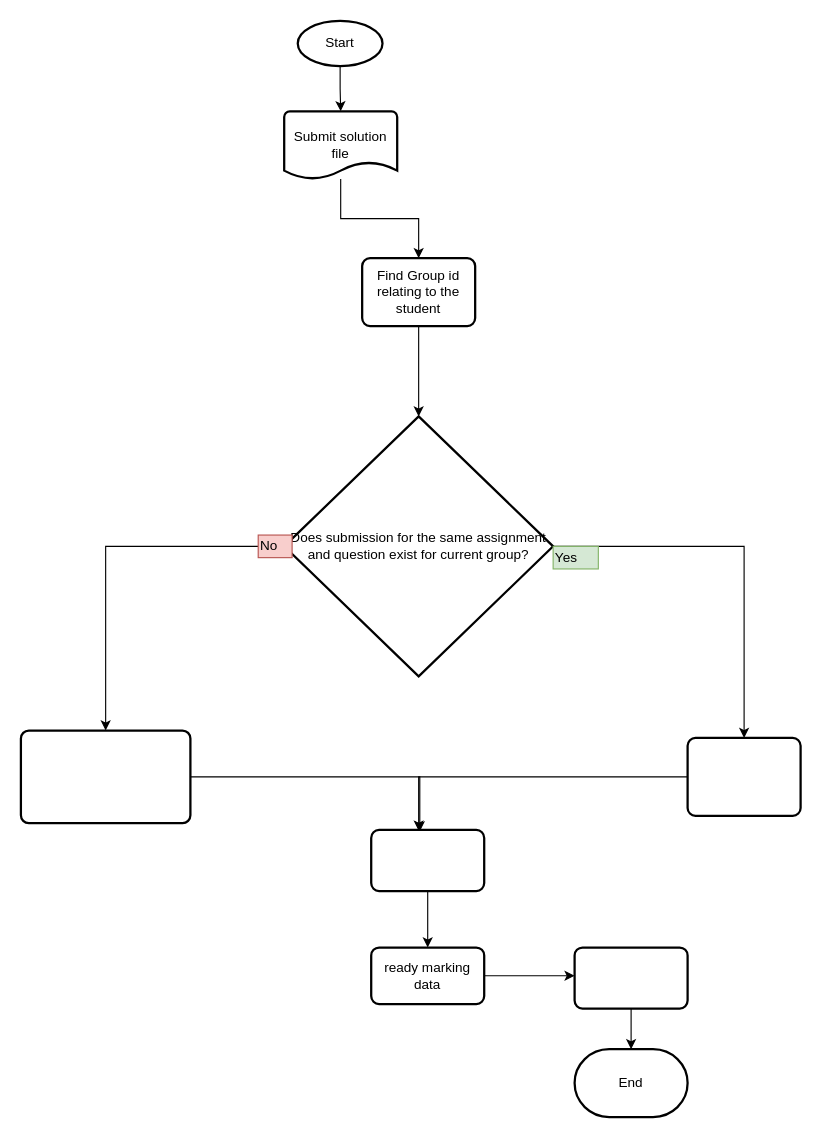
The diagram is 820 pixels wide and 1137 high, and some of its shapes have lost their labels. The shapes that lost their labels are listed below. From the top down, each one's box as (x1, y1, x2, y2) in pixels, then its label:
(19, 729, 191, 824): create new submission record for group
(686, 736, 801, 816): Update history records
(370, 828, 485, 892): Get submissiom
(573, 946, 688, 1009): post_to_marker
